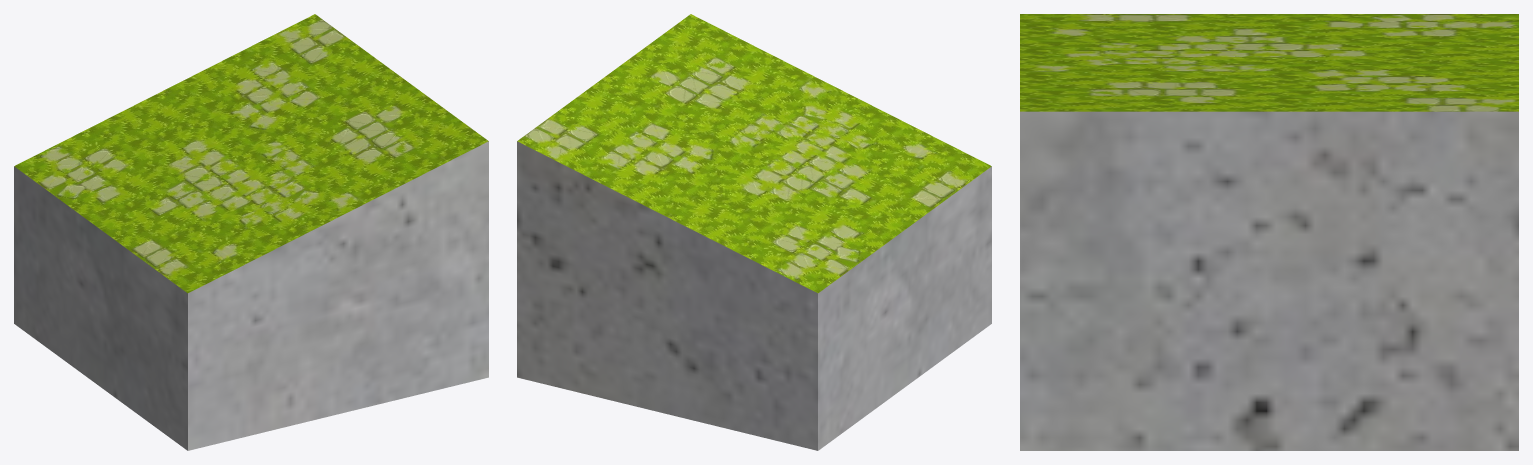
Rendered from GrassRamp.fbx.
3 views of the same model, side by side, from view 1: azimuth 30°, elevation 25°; view 2: azimuth 150°, elevation 25°; view 3: azimuth 270°, elevation 25° (orthographic). The views are drawn at different scales.
Parts seen in each view (by area): view 1: GrassRamp; view 2: GrassRamp; view 3: GrassRamp.
Boxes of the visible parts, left/top/right/bottom form: GrassRamp: left=14, top=14, right=488, bottom=450; GrassRamp: left=517, top=14, right=991, bottom=450; GrassRamp: left=1020, top=14, right=1518, bottom=450.
Bounding box in the file's own units: 100 × 75 × 100.
Materials: 2 (2 with a texture image).
